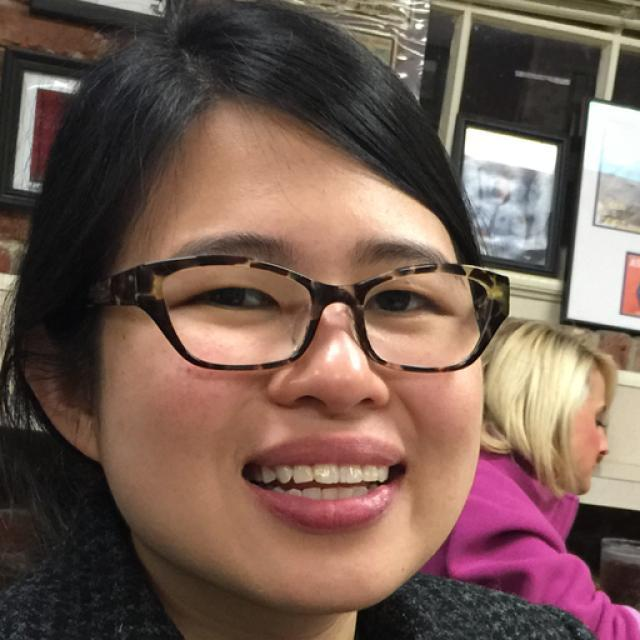disgust: (98, 87, 484, 614)
